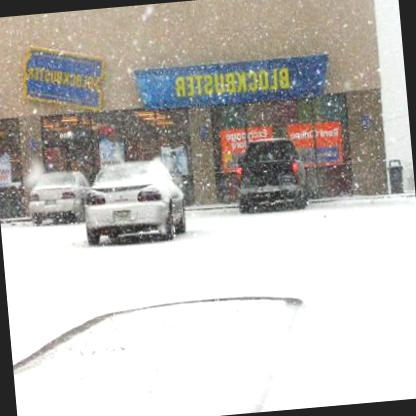car: (80, 156, 188, 246), (234, 135, 308, 214), (26, 169, 95, 226)
